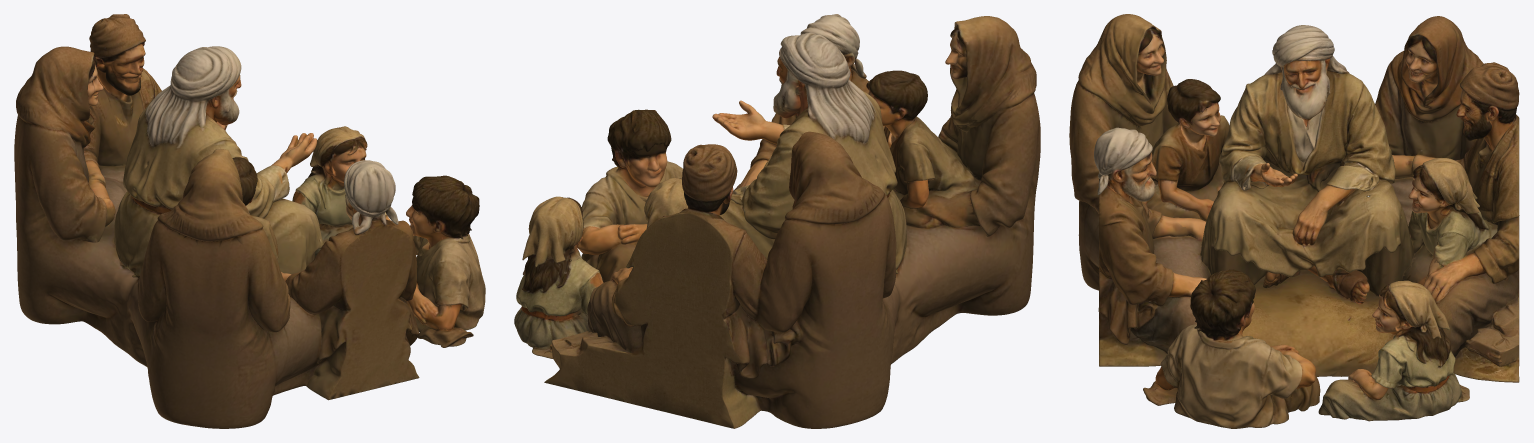
Rendered from page-04.glb.
3 views of the same model, side by side, from view 1: azimuth 30°, elevation 25°; view 2: azimuth 150°, elevation 25°; view 3: azimuth 270°, elevation 25° (orthographic). The views are drawn at different scales.
Parts seen in each view (by area): view 1: tripo_node_b5032342-76cd-4c16-8377-b440b9924776; view 2: tripo_node_b5032342-76cd-4c16-8377-b440b9924776; view 3: tripo_node_b5032342-76cd-4c16-8377-b440b9924776.
Part boxes in pixels (x1,y1,x2,y2): tripo_node_b5032342-76cd-4c16-8377-b440b9924776: (14,14,485,428); tripo_node_b5032342-76cd-4c16-8377-b440b9924776: (514,14,1040,428); tripo_node_b5032342-76cd-4c16-8377-b440b9924776: (1069,14,1519,428).
Bounding box in the file's own units: 0.9659 × 0.6943 × 1.
1 material, 1 textured.
